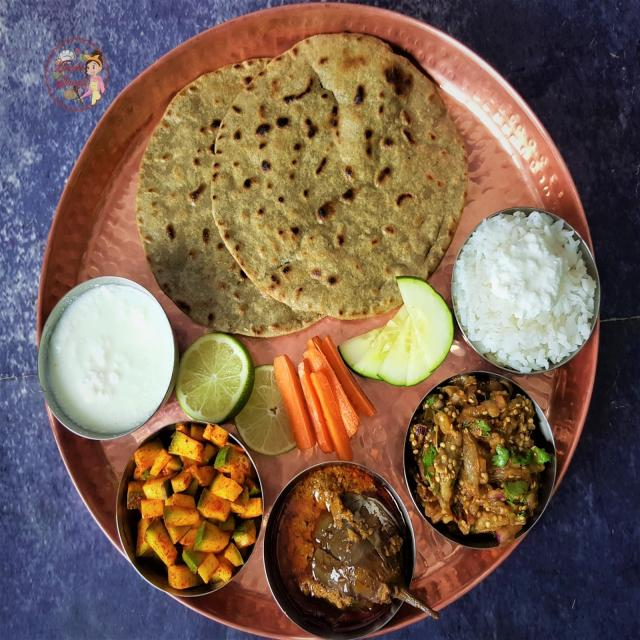ROTI: (210, 33, 467, 319), (137, 58, 293, 332)
